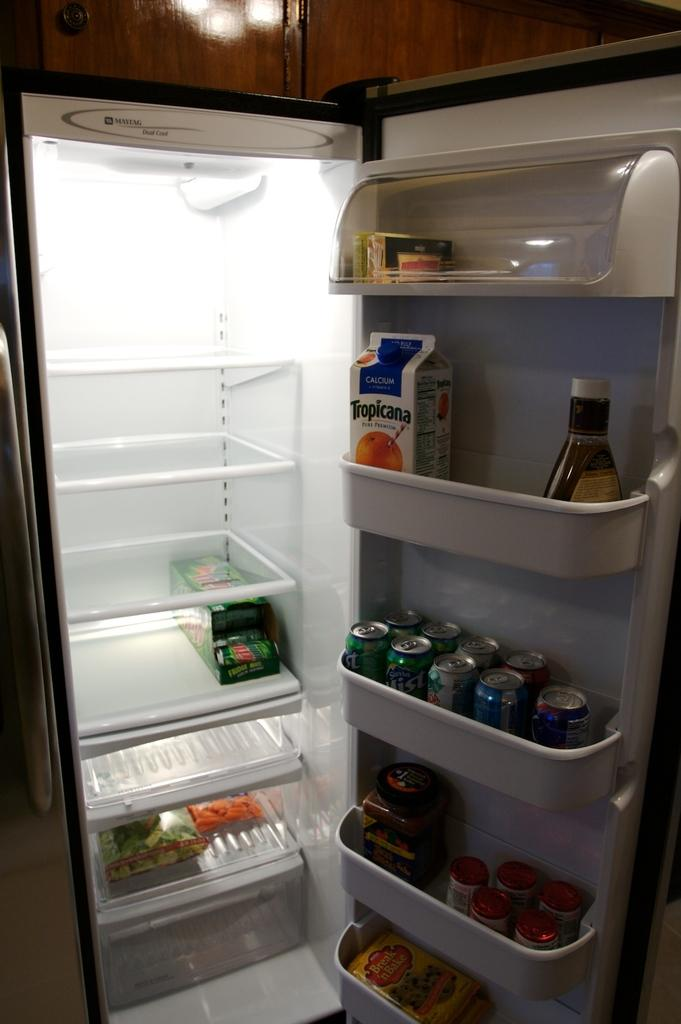handle: (0, 319, 93, 859)
